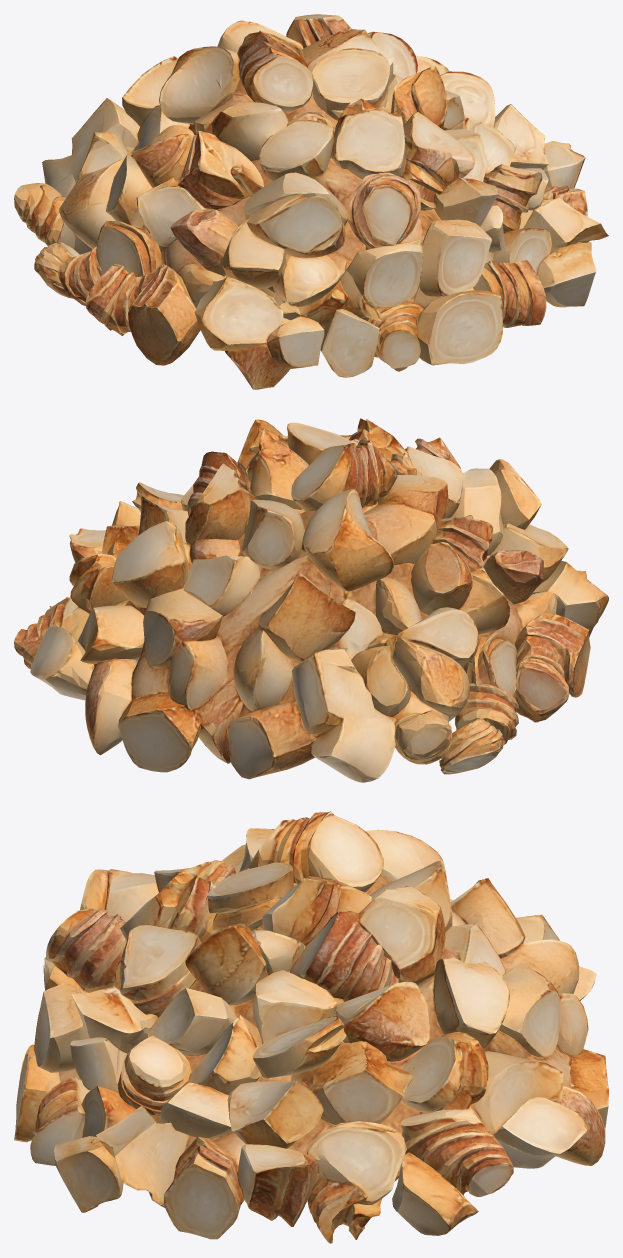
File: lod_basic_pbr.fbx
The picture shows the model from 3 angles, top to bottom: view 1: azimuth 30°, elevation 25°; view 2: azimuth 150°, elevation 25°; view 3: azimuth 270°, elevation 25°; orthographic projection. The views are drawn at different scales.
Parts seen in each view (by area): view 1: model_LOD0; view 2: model_LOD0; view 3: model_LOD0.
Boxes of the visible parts, x1,y1,x2,y2 form: model_LOD0: [14, 14, 608, 389]; model_LOD0: [14, 418, 608, 782]; model_LOD0: [14, 811, 608, 1243].
Size of what is drawn, in the model's own units: 191 by 95.75 by 177.
Materials: 1 (1 with a texture image).
